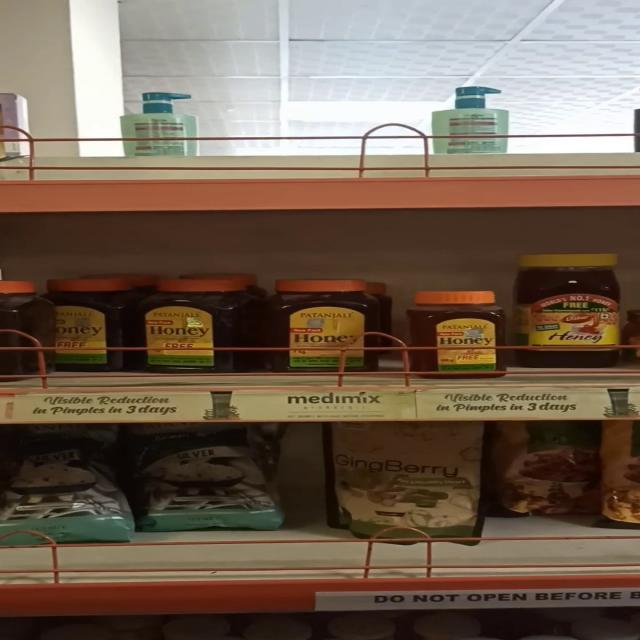Dabur Honey: (514, 252, 625, 366)
Patanjali Honey: (277, 278, 376, 371), (32, 275, 122, 375), (409, 289, 507, 376), (130, 275, 220, 368)
